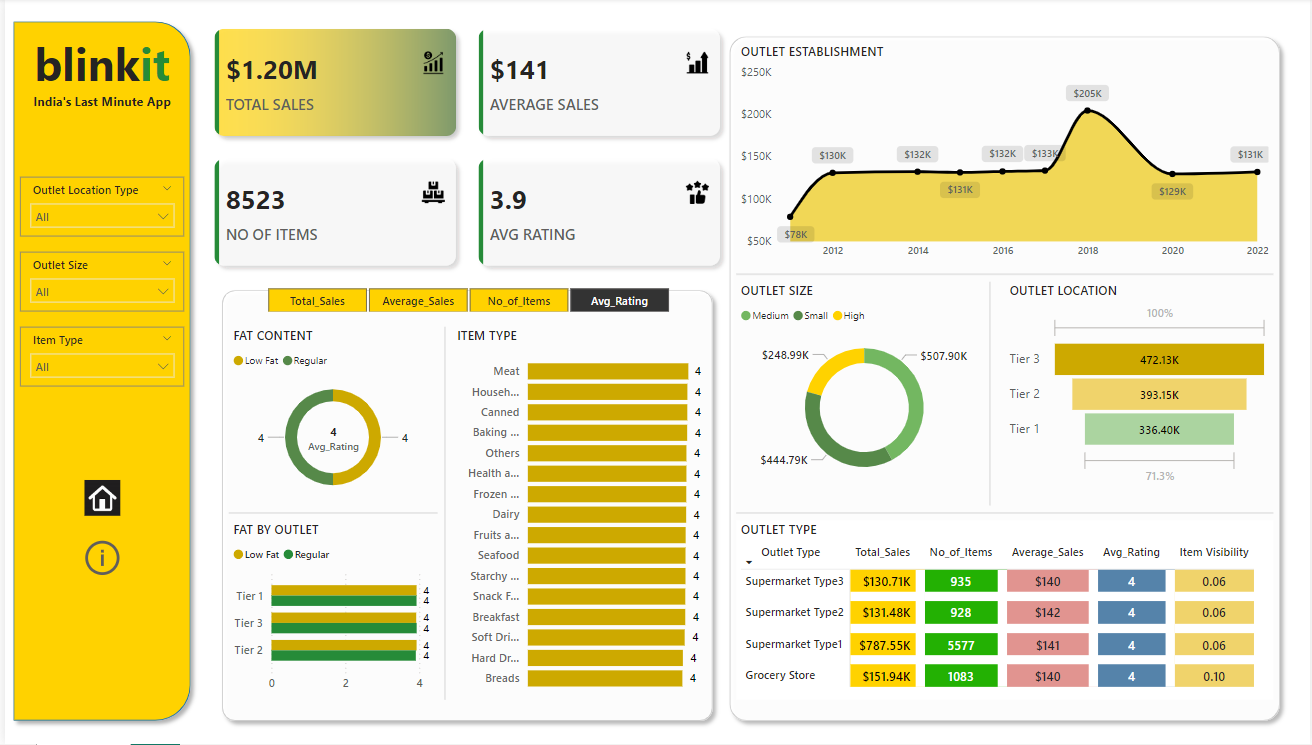

The dashboard page shown, as its layout file describes it:
{"tool":"powerbi","page":{"name":"Page 1","canvas":[1400,800],"ordinal":0},"visuals":[{"type":"shape","box":[0,16,208,768],"z":0},{"type":"textbox","box":[16,32,176,80],"z":1000},{"type":"textbox","box":[16,96,176,32],"z":2000},{"type":"cardVisual","fields":{"Data":["BlinkIT Grocery Data.Total_Sales","BlinkIT Grocery Data.Average_Sales","BlinkIT Grocery Data.No_of_Items","BlinkIT Grocery Data.Avg_Rating"]},"box":[208,16,576,288],"z":3000},{"type":"shape","box":[224,304,544,480],"z":4000},{"type":"donutChart","title":"FAT CONTENT","fields":{"Y":["BlinkIT Grocery Data.Avg_Rating"],"Category":["BlinkIT Grocery Data.Item Fat Content"]},"box":[240,352,224,192],"z":5000},{"type":"slicer","fields":{"Values":["Metrics.Metrics"]},"box":[256,304,480,32],"z":6000},{"type":"cardVisual","fields":{"Data":["BlinkIT Grocery Data.Avg_Rating"]},"box":[304,432,96,80],"z":7000},{"type":"clusteredBarChart","title":"FAT BY OUTLET","fields":{"Y":["BlinkIT Grocery Data.Avg_Rating"],"Category":["BlinkIT Grocery Data.Outlet Location Type"],"Series":["BlinkIT Grocery Data.Item Fat Content"]},"box":[240,560,224,192],"z":8000},{"type":"shape","box":[240,544,224,16],"z":9000},{"type":"shape","box":[464,352,16,400],"z":10000},{"type":"barChart","title":"ITEM TYPE","fields":{"Y":["BlinkIT Grocery Data.Avg_Rating"],"Category":["BlinkIT Grocery Data.Item Type"]},"box":[480,352,272,400],"z":11000},{"type":"shape","box":[768,32,608,752],"z":12000},{"type":"lineChart","title":"OUTLET ESTABLISHMENT","fields":{"Category":["BlinkIT Grocery Data.Outlet Establishment Year"],"Y":["BlinkIT Grocery Data.Total_Sales"]},"box":[784,48,576,240],"z":13000},{"type":"shape","box":[784,288,576,16],"z":14000},{"type":"donutChart","title":"OUTLET SIZE","fields":{"Y":["BlinkIT Grocery Data.Total_Sales"],"Category":["BlinkIT Grocery Data.Outlet Size"]},"box":[784,304,275,225],"z":15000},{"type":"shape","box":[1040,304,32,240],"z":16000},{"type":"funnel","title":"OUTLET LOCATION","fields":{"Category":["BlinkIT Grocery Data.Outlet Location Type"],"Y":["Sum(BlinkIT Grocery Data.Sales)"]},"box":[1072,304,288,224],"z":16001},{"type":"shape","box":[784,544,576,16],"z":16002},{"type":"pivotTable","title":"OUTLET TYPE","fields":{"Rows":["BlinkIT Grocery Data.Outlet Type"],"Values":["BlinkIT Grocery Data.Total_Sales","BlinkIT Grocery Data.No_of_Items","BlinkIT Grocery Data.Average_Sales","BlinkIT Grocery Data.Avg_Rating","Avg(BlinkIT Grocery Data.Item Visibility)"]},"box":[784,560,576,192],"z":16003},{"type":"slicer","fields":{"Values":["BlinkIT Grocery Data.Outlet Location Type"]},"box":[16,192,176,64],"z":16004},{"type":"slicer","fields":{"Values":["BlinkIT Grocery Data.Outlet Size"]},"box":[16,272,176,64],"z":16005},{"type":"slicer","fields":{"Values":["BlinkIT Grocery Data.Item Type"]},"box":[16,352,176,64],"z":16006},{"type":"actionButton","box":[80,576,48,48],"z":16007},{"type":"image","box":[80,512,48,48],"z":16008}]}

Visuals, with their boxes in screenshot pixels (x1, y1, x2, y2), scaled from the page's 1400x800 canvas onto the 1312x745 screenshot:
shape: (x1=0, y1=15, x2=195, y2=730)
textbox: (x1=15, y1=30, x2=180, y2=104)
textbox: (x1=15, y1=89, x2=180, y2=119)
cardVisual - BlinkIT Grocery Data.Total_Sales x BlinkIT Grocery Data.Average_Sales: (x1=195, y1=15, x2=735, y2=283)
shape: (x1=210, y1=283, x2=720, y2=730)
"FAT CONTENT" donutChart: (x1=225, y1=328, x2=435, y2=507)
slicer - Metrics.Metrics: (x1=240, y1=283, x2=690, y2=313)
cardVisual - BlinkIT Grocery Data.Avg_Rating: (x1=285, y1=402, x2=375, y2=477)
"FAT BY OUTLET" clusteredBarChart: (x1=225, y1=522, x2=435, y2=700)
shape: (x1=225, y1=507, x2=435, y2=522)
shape: (x1=435, y1=328, x2=450, y2=700)
"ITEM TYPE" barChart: (x1=450, y1=328, x2=705, y2=700)
shape: (x1=720, y1=30, x2=1290, y2=730)
"OUTLET ESTABLISHMENT" lineChart: (x1=735, y1=45, x2=1275, y2=268)
shape: (x1=735, y1=268, x2=1275, y2=283)
"OUTLET SIZE" donutChart: (x1=735, y1=283, x2=992, y2=493)
shape: (x1=975, y1=283, x2=1005, y2=507)
"OUTLET LOCATION" funnel: (x1=1005, y1=283, x2=1275, y2=492)
shape: (x1=735, y1=507, x2=1275, y2=522)
"OUTLET TYPE" pivotTable: (x1=735, y1=522, x2=1275, y2=700)
slicer - BlinkIT Grocery Data.Outlet Location Type: (x1=15, y1=179, x2=180, y2=238)
slicer - BlinkIT Grocery Data.Outlet Size: (x1=15, y1=253, x2=180, y2=313)
slicer - BlinkIT Grocery Data.Item Type: (x1=15, y1=328, x2=180, y2=387)
actionButton: (x1=75, y1=536, x2=120, y2=581)
image: (x1=75, y1=477, x2=120, y2=522)
